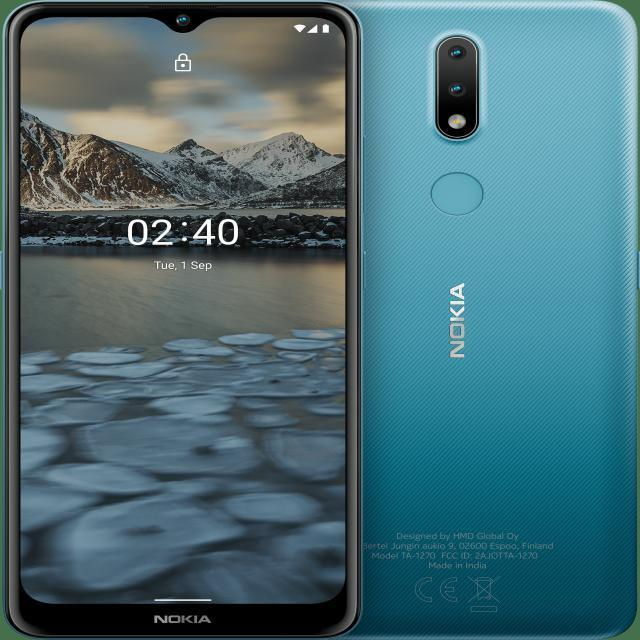Phone: (5, 7, 353, 638), (360, 6, 638, 633)
